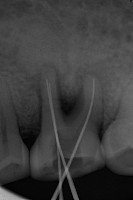Dental Caries: (26, 57, 111, 114)
